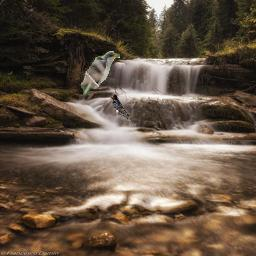Cuckoo: (81, 51, 120, 96)
Swallow: (111, 94, 132, 121)
